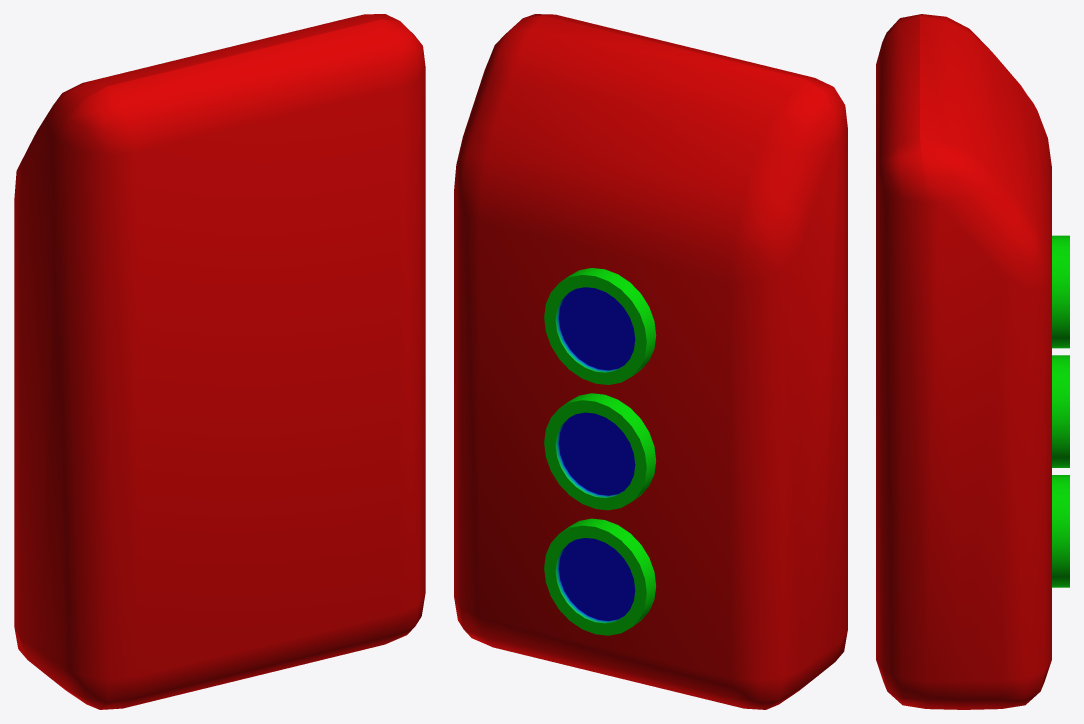
Rendered from Backpack.fbx.
3 renders of one model, left to right at view 1: azimuth 30°, elevation 25°; view 2: azimuth 150°, elevation 25°; view 3: azimuth 270°, elevation 25°, orthographic. The views are drawn at different scales.
Visible parts, largest first — view 1: attribwrangle4; view 2: attribwrangle4; view 3: attribwrangle4.
Part boxes in pixels (<box>): attribwrangle4: <box>14,14,425,709</box>; attribwrangle4: <box>454,14,847,709</box>; attribwrangle4: <box>876,14,1069,709</box>.
Size of the model in its own units: 30 by 50 by 15.43.
